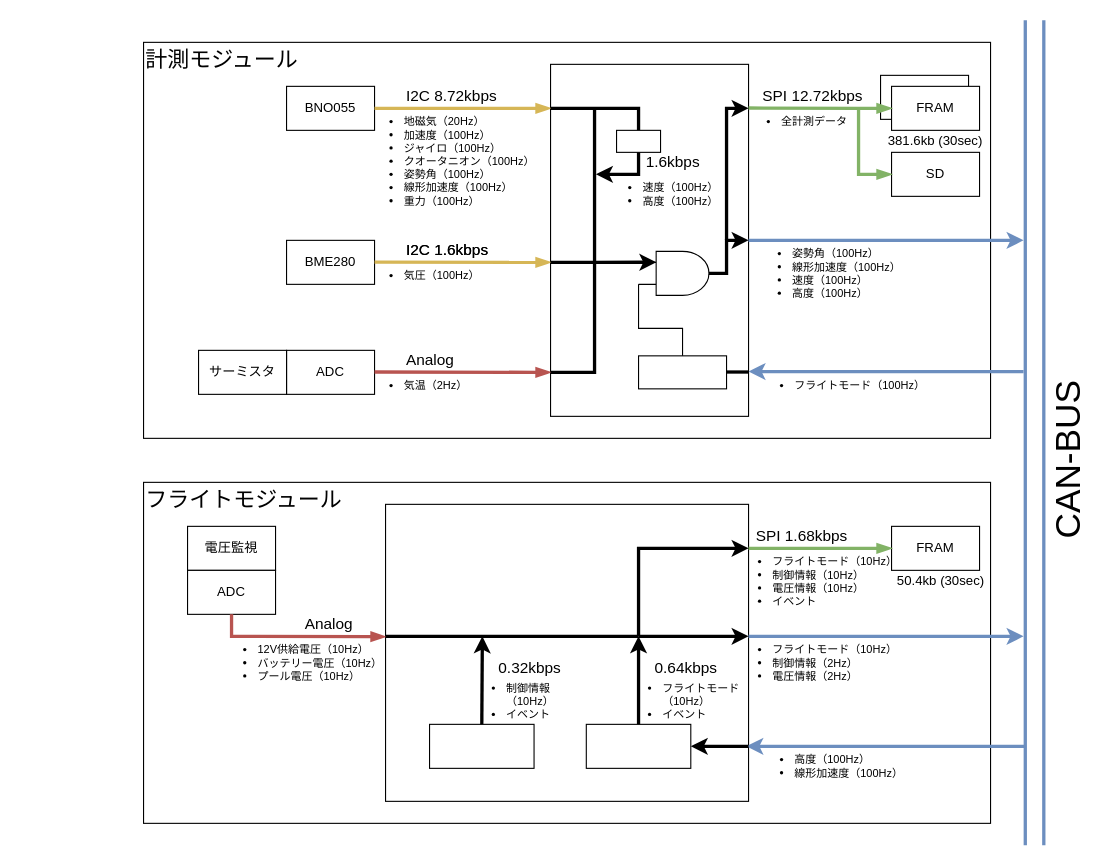
This 1108x866 diagram has some shape labels left out. Here are the shapes that lost their labels. From the top down, the centre of each, then its label:
At [638,140]: "算出".
At [682,372]: "データ出力 実行判定".
At [481,745]: "分離制御 カメラ制御".
At [638,745]: "フライトモード 管理".
